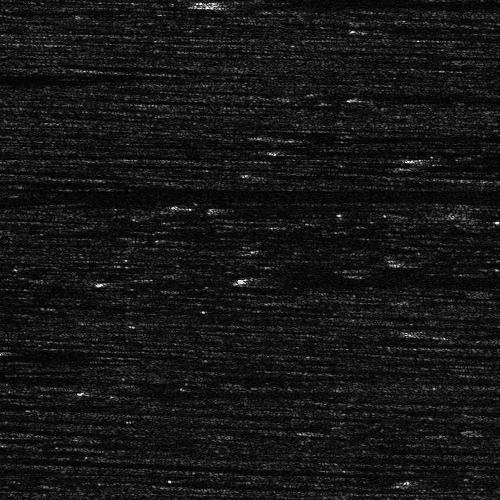rock: (399, 152, 472, 163), (415, 152, 488, 163), (372, 328, 477, 335), (225, 273, 288, 284), (161, 0, 254, 7), (236, 131, 299, 138), (323, 95, 386, 102), (349, 24, 402, 31), (415, 475, 446, 486), (252, 148, 315, 153), (436, 207, 467, 214), (404, 163, 445, 168), (366, 164, 407, 169), (0, 5, 16, 14), (464, 429, 500, 432)
shadow: (257, 273, 500, 284), (208, 0, 500, 7), (0, 5, 194, 14), (268, 131, 500, 138), (0, 68, 145, 79), (376, 24, 500, 31), (0, 76, 96, 85), (284, 148, 449, 153), (431, 475, 500, 486), (436, 152, 500, 163), (355, 95, 438, 102), (387, 164, 500, 169), (452, 152, 500, 163), (425, 328, 500, 335), (425, 163, 500, 168), (452, 207, 500, 214)
